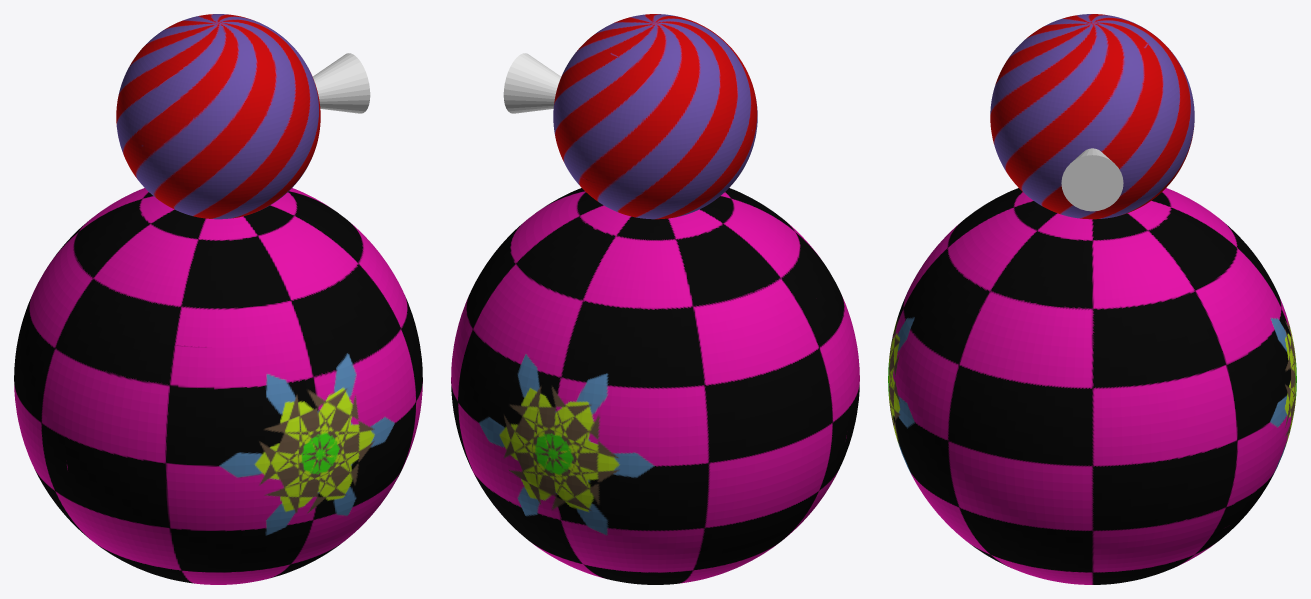
Rendered from BOD0_BMC10_BCC1_BPT4_FRC26_HEA0_HMC9_HCC4_HPT3_ELT0_ERT3_ELL1_ERL1_AP0_AAL2_AAR0_BEK0.fbx.
3 views of the same model, side by side, from view 1: azimuth 30°, elevation 25°; view 2: azimuth 150°, elevation 25°; view 3: azimuth 270°, elevation 25° (orthographic).
Parts seen in each view (by area): view 1: Body, Ear; view 2: Body, Ear; view 3: Body, Ear.
Part boxes in pixels (box(x1,y1,x2,y2)): Body: box(14, 14, 422, 584); Ear: box(313, 53, 370, 113); Body: box(451, 14, 859, 584); Ear: box(503, 53, 560, 113); Body: box(888, 14, 1296, 584); Ear: box(1061, 148, 1123, 211).
Bounding box in the file's own units: 49.36 × 72.41 × 49.36.
1 material, 1 textured.
